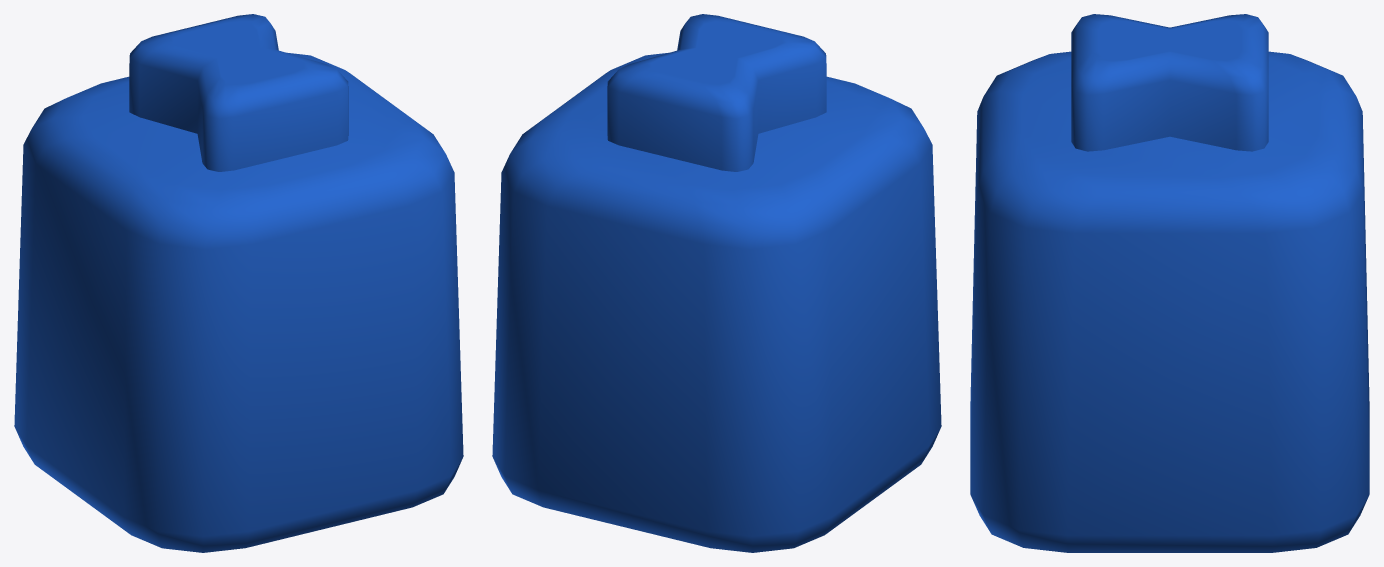
Rendered from block_rec.fbx.
The picture shows the model from 3 angles, left to right: view 1: azimuth 30°, elevation 25°; view 2: azimuth 150°, elevation 25°; view 3: azimuth 270°, elevation 25°; orthographic projection. The views are drawn at different scales.
Parts seen in each view (by area): view 1: block_rec; view 2: block_rec; view 3: block_rec.
Boxes of the visible parts, left/top/right/bottom form: block_rec: left=14, top=14, right=463, bottom=552; block_rec: left=492, top=14, right=941, bottom=552; block_rec: left=970, top=14, right=1369, bottom=552.
Size of the model in its own units: 98.38 by 98.38 by 120.
